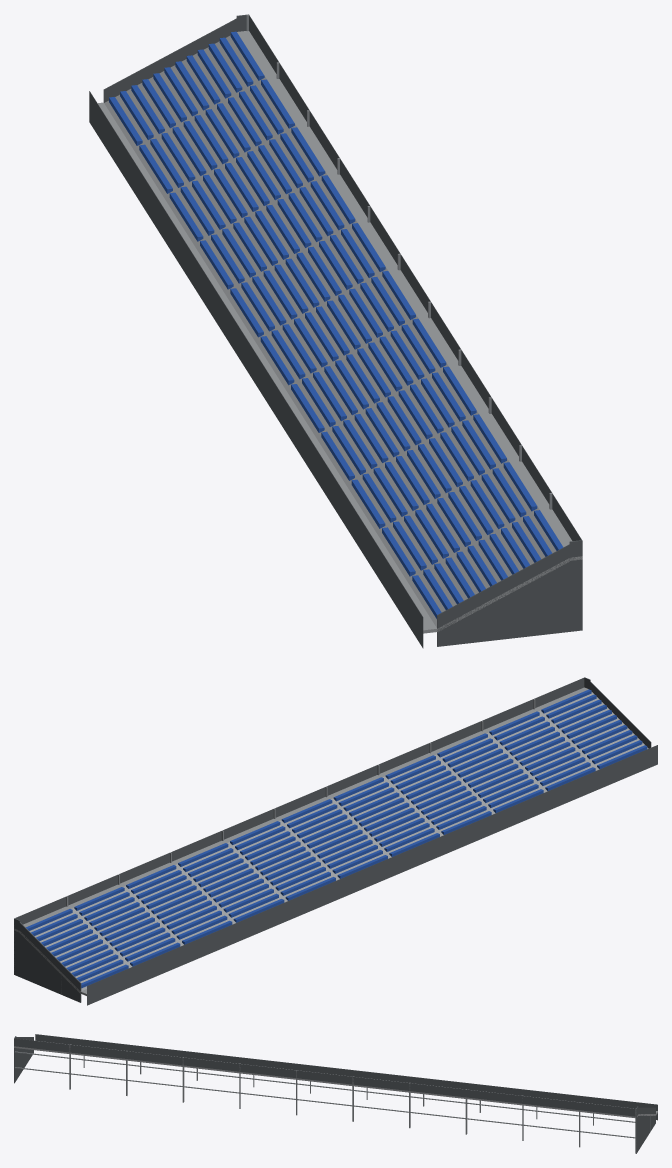
File: mza_stand_alta_b.glb
3 renders of one model, top to bottom at view 1: azimuth 30°, elevation 25°; view 2: azimuth 150°, elevation 25°; view 3: azimuth 270°, elevation 25°, orthographic. The views are drawn at different scales.
Parts seen in each view (by area): view 1: monza-alta-b; view 2: monza-alta-b; view 3: monza-alta-b.
Boxes of the visible parts, <box> form: monza-alta-b: <box>89,14,582,648</box>; monza-alta-b: <box>14,677,657,1005</box>; monza-alta-b: <box>14,1034,657,1153</box>.
Bounding box in the file's own units: 34.44 × 6.92 × 89.92.
